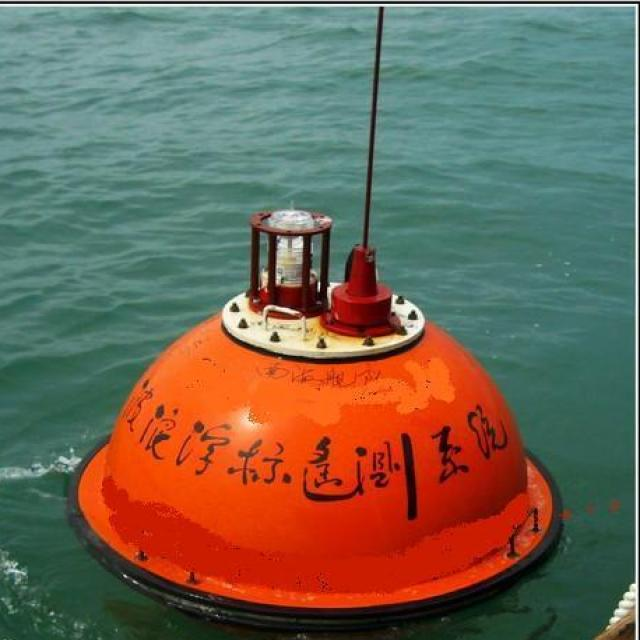buoy: (69, 157, 565, 627)
